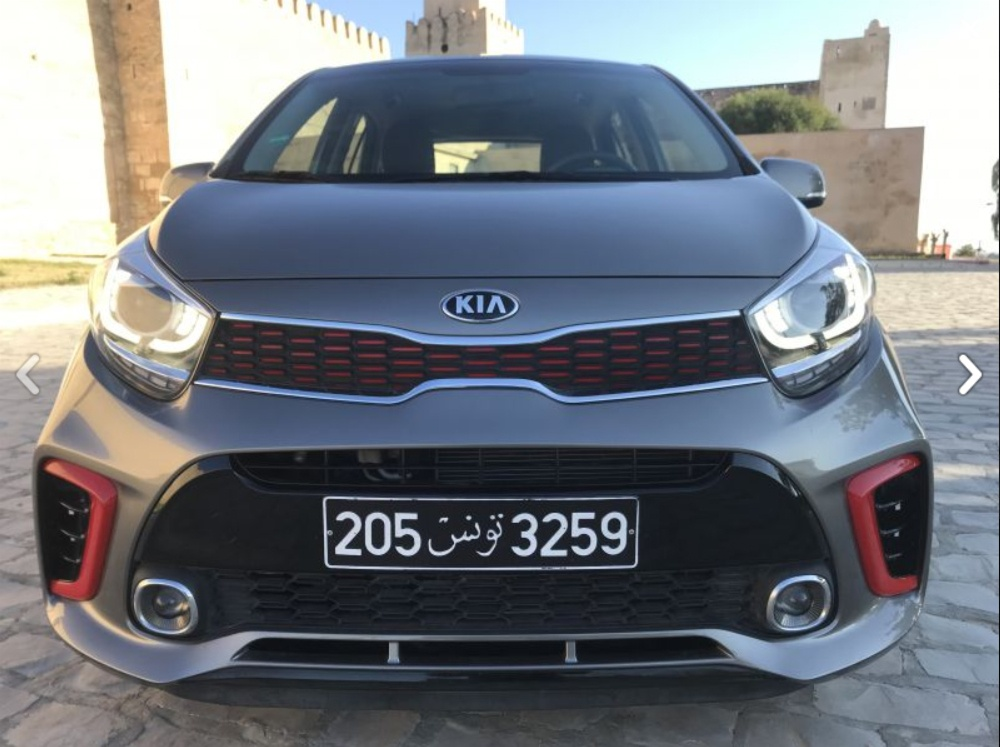LP: (318, 490, 649, 578)
